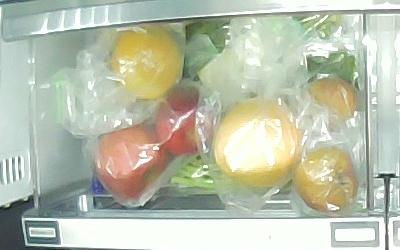apple_vinyl: (93, 124, 175, 199), (156, 86, 223, 156)
grapefruit_vinyl: (214, 99, 303, 190)
persimmon_vinyl: (111, 25, 184, 98)
prune_vinyl: (296, 147, 359, 211)
